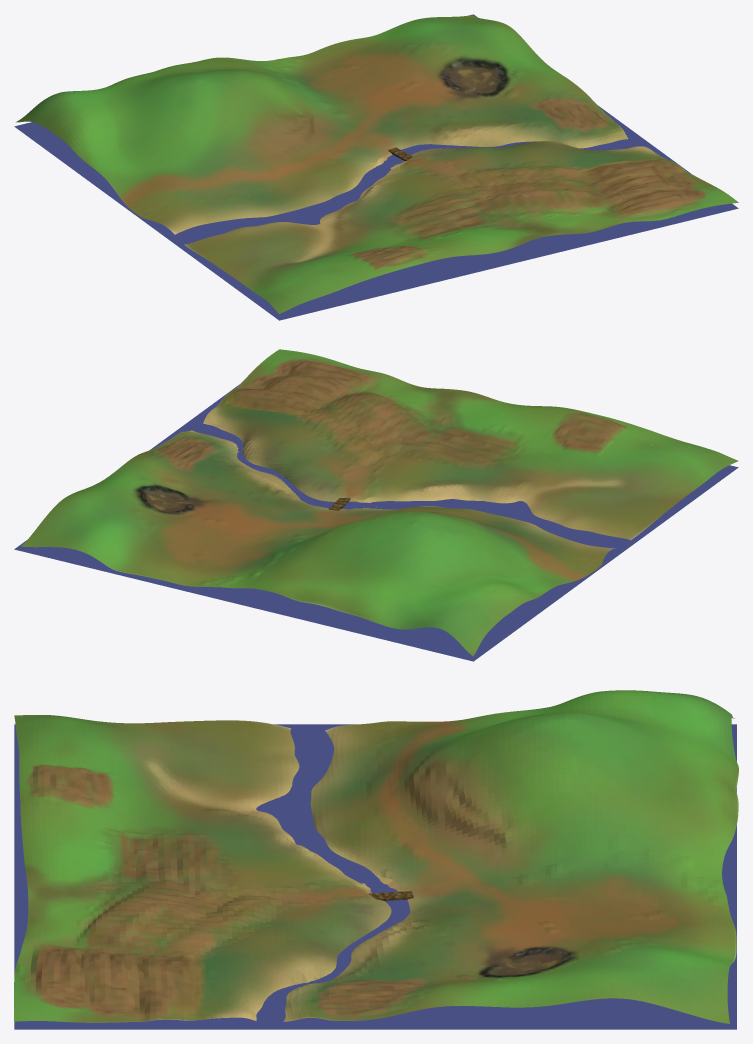
File: village_landscape4.glb
The picture shows the model from 3 angles, top to bottom: view 1: azimuth 30°, elevation 25°; view 2: azimuth 150°, elevation 25°; view 3: azimuth 270°, elevation 25°; orthographic projection. The views are drawn at different scales.
Parts seen in each view (by area): view 1: ground, water_base; view 2: ground, water_base; view 3: ground, water_base.
Boxes of the visible parts, box(x1,y1,x2,y2) form: ground: box(16, 15, 738, 314); water_base: box(14, 14, 738, 320); ground: box(21, 349, 738, 656); water_base: box(14, 384, 738, 661); ground: box(14, 690, 738, 1023); water_base: box(14, 724, 736, 1029).
Size of the model in its own units: 500 by 73.27 by 502.
3 materials, 2 textured.
